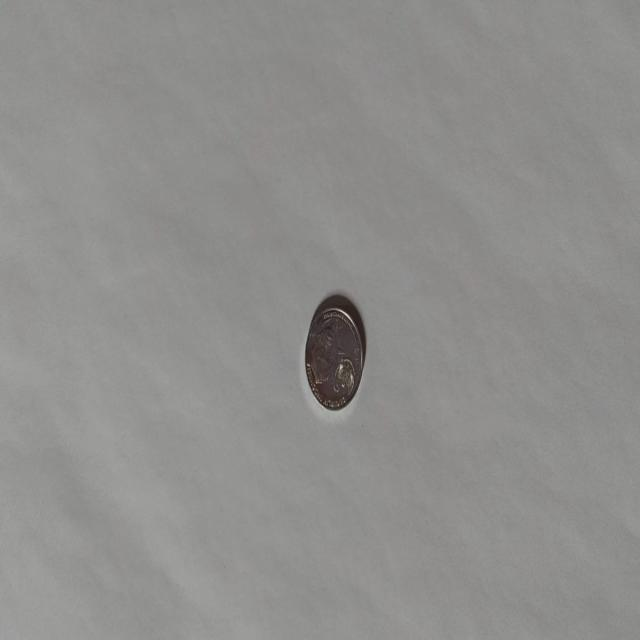dua ratus rupiah: (304, 300, 364, 412)
